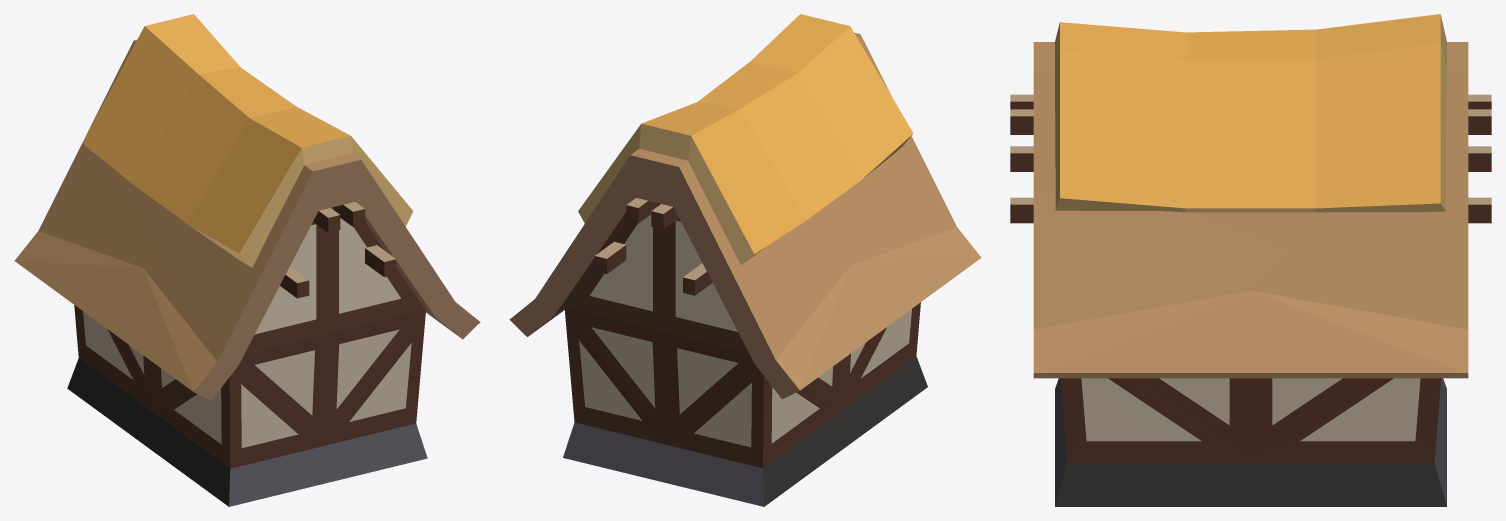
File: cottage_b.glb
The picture shows the model from 3 angles, left to right: view 1: azimuth 30°, elevation 25°; view 2: azimuth 150°, elevation 25°; view 3: azimuth 270°, elevation 25°; orthographic projection. The views are drawn at different scales.
Parts seen in each view (by area): view 1: TB_Bd_House; view 2: TB_Bd_House; view 3: TB_Bd_House.
Part boxes in pixels (x1,y1,x2,y2): TB_Bd_House: [14, 14, 480, 506]; TB_Bd_House: [509, 14, 981, 506]; TB_Bd_House: [1010, 14, 1491, 506].
Bounding box in the file's own units: 4.51 × 5.2 × 5.41.
Materials: 1 (1 with a texture image).
